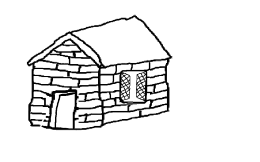door: (46, 87, 81, 131)
open_window: (115, 68, 152, 105)
roof: (27, 15, 171, 68)
wall: (97, 53, 172, 128)
